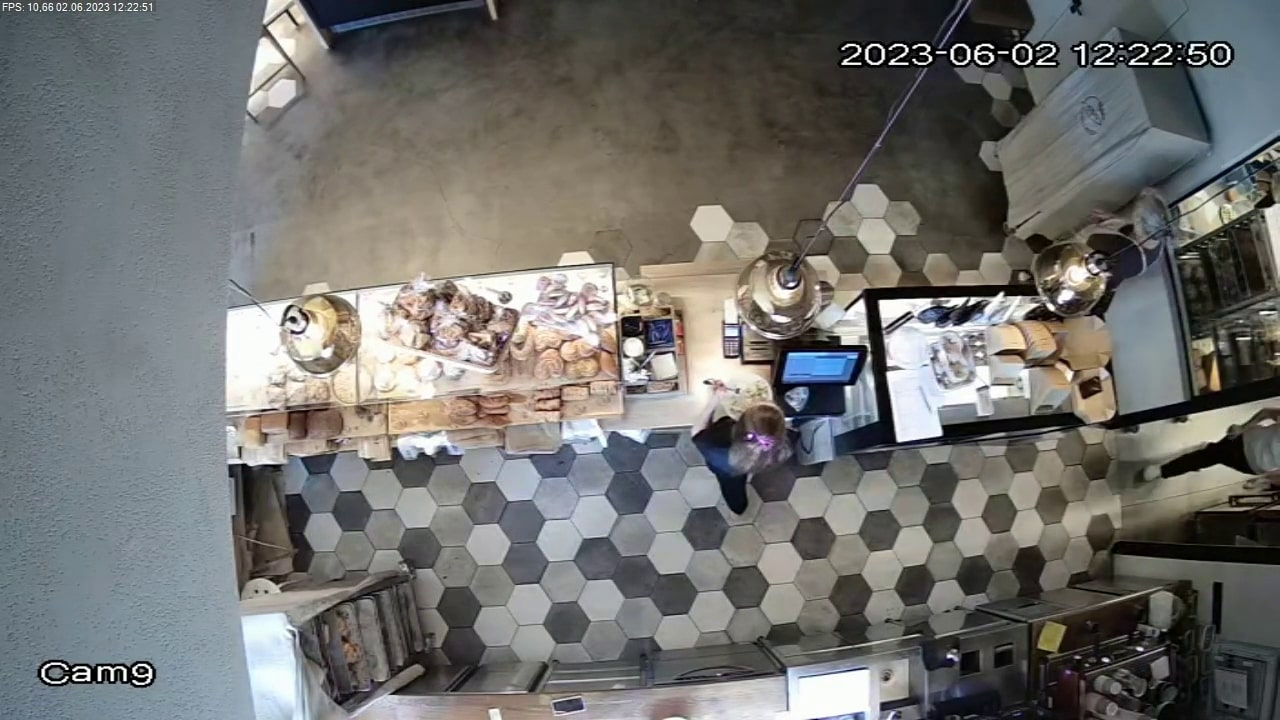barcounter: (231, 282, 1119, 442)
person: (683, 374, 820, 499)
